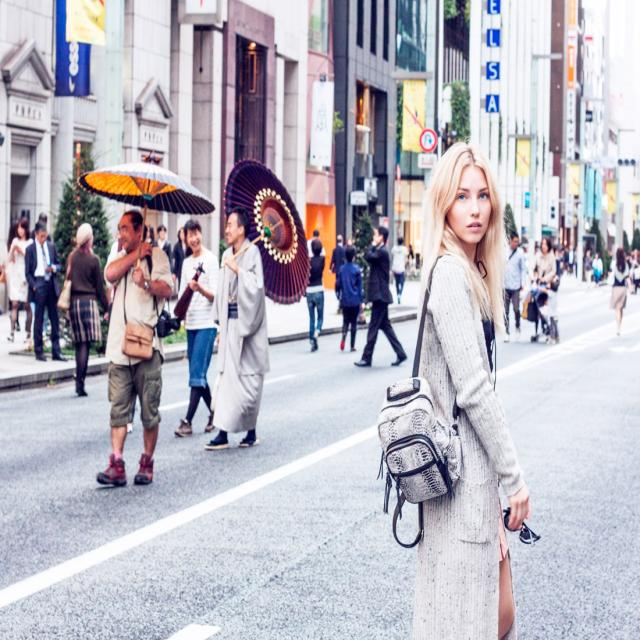body: (374, 138, 534, 639), (92, 206, 176, 492), (202, 205, 270, 452), (170, 216, 222, 440), (57, 220, 111, 401), (351, 222, 409, 370), (22, 217, 72, 363), (5, 219, 34, 344), (332, 242, 364, 352), (302, 235, 330, 354), (502, 228, 526, 343), (0, 217, 22, 332), (608, 246, 632, 336), (526, 235, 558, 289), (389, 232, 409, 307), (153, 223, 177, 283), (173, 226, 194, 292), (556, 218, 578, 274), (329, 234, 347, 302), (31, 211, 52, 244), (536, 298, 556, 332), (582, 248, 594, 297), (628, 247, 640, 296), (306, 229, 326, 258), (591, 251, 603, 292), (140, 223, 158, 250), (17, 208, 31, 237), (111, 216, 119, 257), (410, 245, 418, 277), (531, 238, 539, 250)
